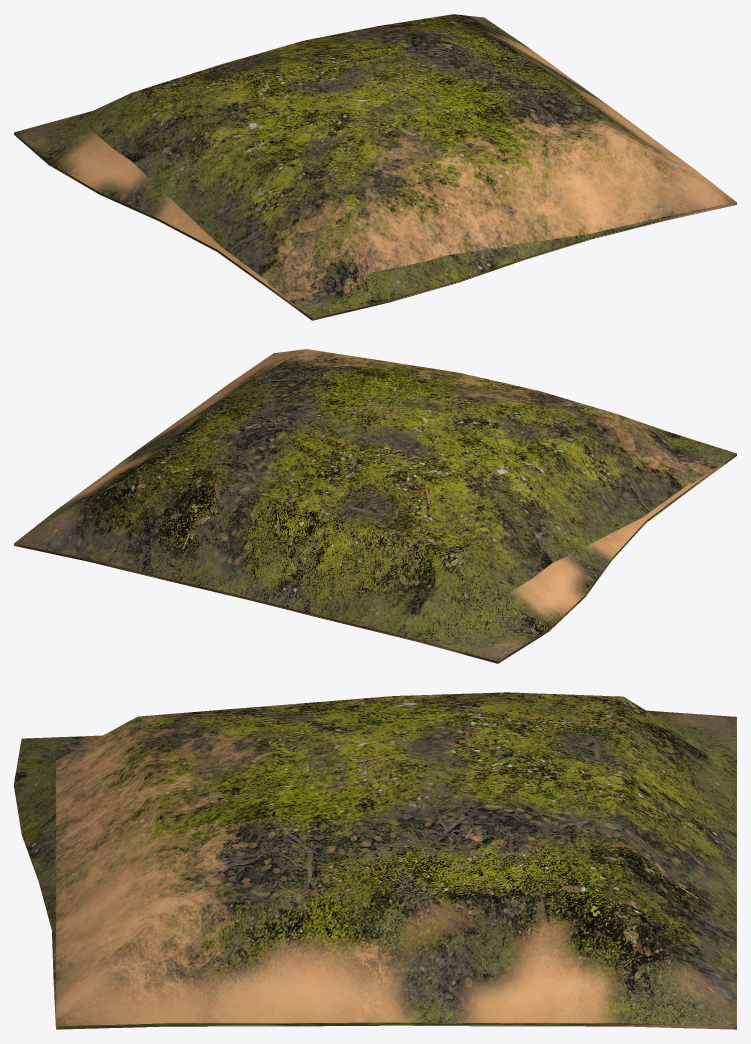
File: moss_ground.fbx
3 renders of one model, top to bottom at view 1: azimuth 30°, elevation 25°; view 2: azimuth 150°, elevation 25°; view 3: azimuth 270°, elevation 25°, orthographic. The views are drawn at different scales.
Visible parts, largest first — view 1: moss_ground; view 2: moss_ground; view 3: moss_ground.
Boxes of the visible parts, x1,y1,x2,y2 form: moss_ground: (14, 14, 736, 320); moss_ground: (14, 349, 736, 663); moss_ground: (14, 692, 736, 1029).
Size of the model in its own units: 98.62 by 17.37 by 95.85.
